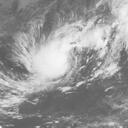cyclone: (27, 28, 98, 101)
